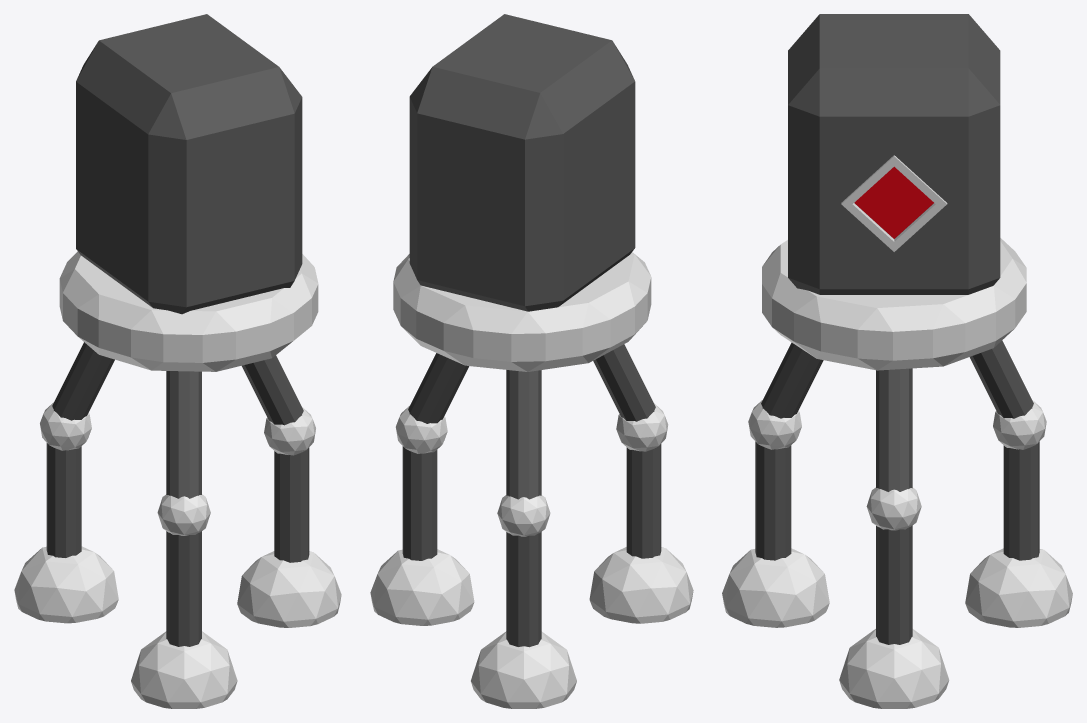
The model's file is tripod.fbx.
3 views of the same model, side by side, from view 1: azimuth 30°, elevation 25°; view 2: azimuth 150°, elevation 25°; view 3: azimuth 270°, elevation 25° (orthographic). The views are drawn at different scales.
Parts seen in each view (by area): view 1: Cube, Cylinder, Icosphere.001, Icosphere.002, Icosphere.004, Cylinder.005, Cylinder.006, Cylinder.001, Cylinder.004, Cylinder.003, Cylinder.002, Icosphere.005 (+2 smaller); view 2: Cube, Cylinder, Icosphere.001, Icosphere.004, Icosphere.002, Cylinder.003, Cylinder.004, Cylinder.001, Cylinder.006, Cylinder.005, Cylinder.002, Icosphere.003 (+2 smaller); view 3: Cube, Cylinder, Icosphere.002, Icosphere.004, Icosphere.001, Cylinder.002, Cylinder.001, Cylinder.006, Cylinder.004, Cylinder.003, Cylinder.005, Cube.001 (+3 smaller).
Boxes of the visible parts, <box> form: Cube: <box>76,14,302,314</box>; Cylinder: <box>59,251,318,371</box>; Icosphere.001: <box>237,551,341,627</box>; Icosphere.002: <box>14,546,118,623</box>; Icosphere.004: <box>131,631,237,708</box>; Cylinder.005: <box>166,371,201,498</box>; Cylinder.006: <box>166,531,201,646</box>; Cylinder.001: <box>274,447,309,562</box>; Cylinder.004: <box>46,443,81,557</box>; Cylinder.003: <box>52,342,114,420</box>; Cylinder.002: <box>242,355,303,425</box>; Icosphere.005: <box>157,494,210,535</box>; Cube: <box>409,14,635,311</box>; Cylinder: <box>393,252,651,371</box>; Icosphere.001: <box>370,549,474,625</box>; Icosphere.004: <box>589,547,693,623</box>; Icosphere.002: <box>471,631,576,708</box>; Cylinder.003: <box>506,370,541,499</box>; Cylinder.004: <box>506,532,541,647</box>; Cylinder.001: <box>402,446,437,560</box>; Cylinder.006: <box>626,444,661,558</box>; Cylinder.005: <box>593,344,655,421</box>; Cylinder.002: <box>408,353,469,423</box>; Icosphere.003: <box>497,495,550,536</box>; Cube: <box>788,14,1000,294</box>; Cylinder: <box>762,238,1026,370</box>; Icosphere.002: <box>965,548,1072,627</box>; Icosphere.004: <box>722,548,829,627</box>; Icosphere.001: <box>839,629,949,708</box>; Cylinder.002: <box>876,368,912,491</box>; Cylinder.001: <box>876,525,912,644</box>; Cylinder.006: <box>755,441,791,560</box>; Cylinder.004: <box>1003,441,1039,560</box>; Cylinder.003: <box>969,340,1033,418</box>; Cylinder.005: <box>761,342,823,418</box>; Cube.001: <box>841,155,947,251</box>.
Size of the model in its own units: 333 by 716 by 382.
